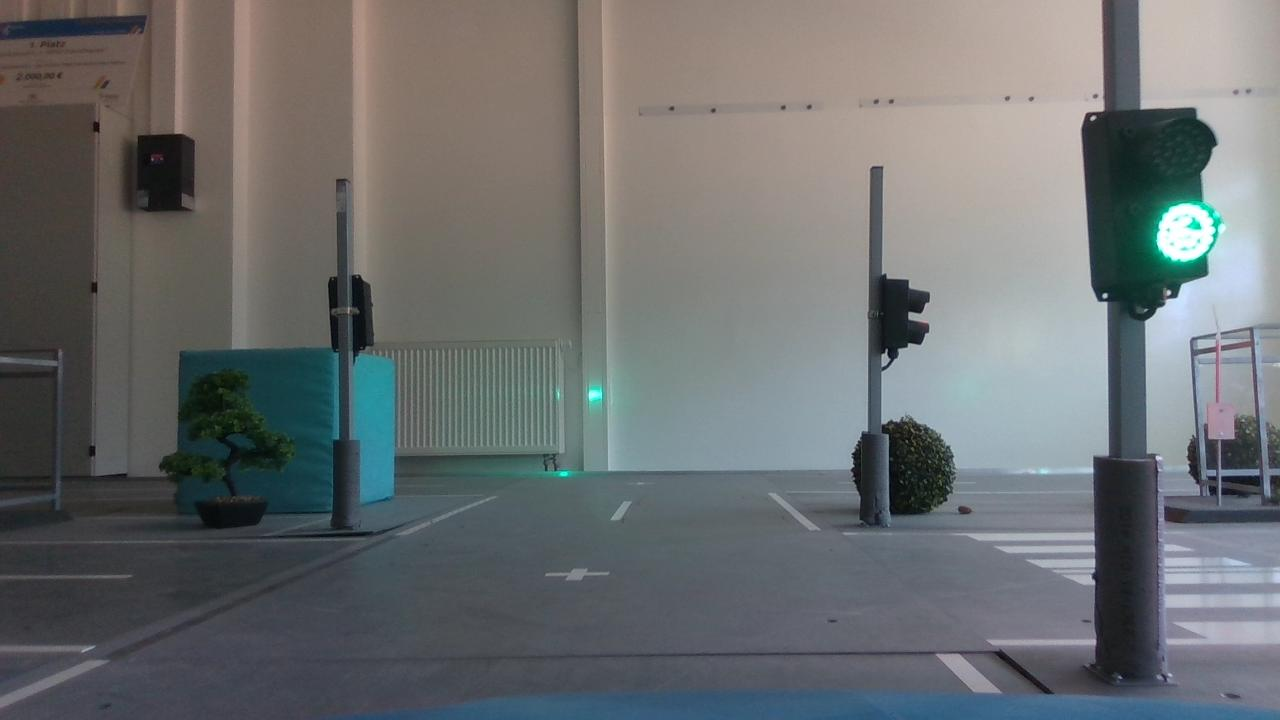traffic_light_green: (1059, 94, 1233, 317)
